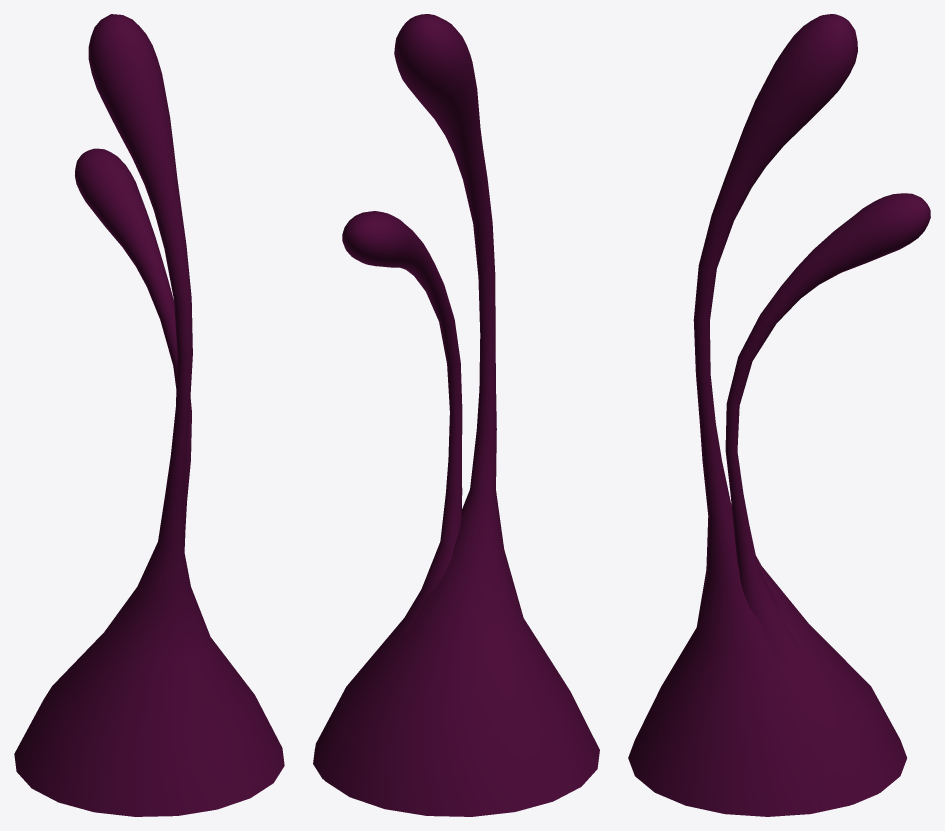
Rendered from Steel_08.fbx.
3 renders of one model, left to right at view 1: azimuth 30°, elevation 25°; view 2: azimuth 150°, elevation 25°; view 3: azimuth 270°, elevation 25°, orthographic. The views are drawn at different scales.
Parts seen in each view (by area): view 1: pCylinder22, pCylinder23; view 2: pCylinder22, pCylinder23; view 3: pCylinder22, pCylinder23.
Part boxes in pixels (x1=…): pCylinder22: x1=14, y1=14, x2=284, y2=816; pCylinder23: x1=75, y1=148, x2=191, y2=551; pCylinder22: x1=315, y1=14, x2=599, y2=816; pCylinder23: x1=313, y1=211, x2=462, y2=780; pCylinder22: x1=628, y1=14, x2=906, y2=816; pCylinder23: x1=725, y1=193, x2=930, y2=811.
Bounding box in the file's own units: 2.25 × 6.58 × 2.44.
